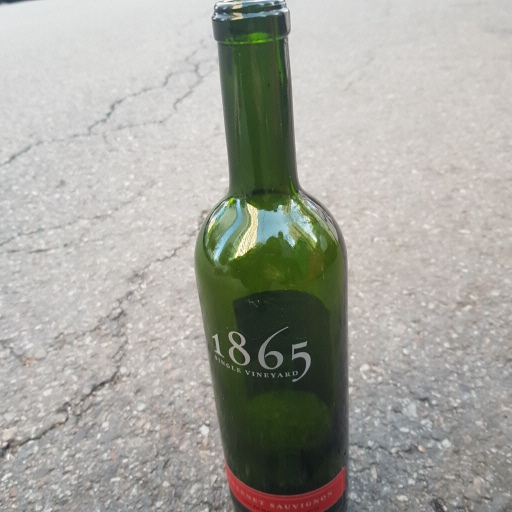Glass_2: (194, 4, 352, 512)
